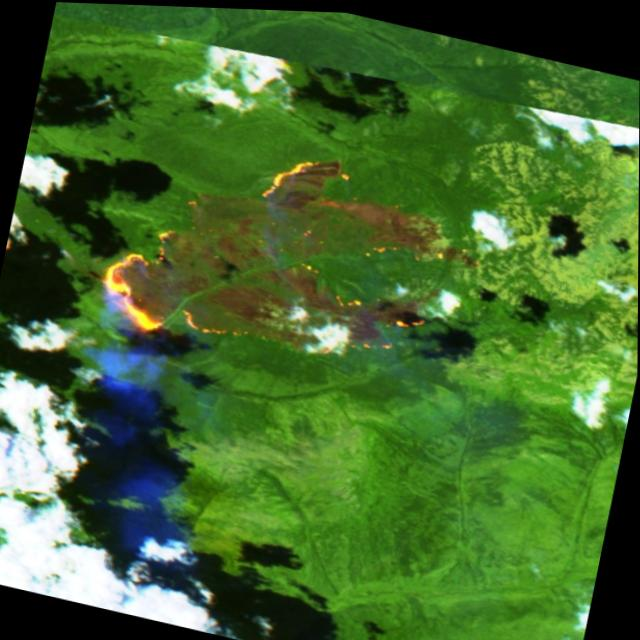fire: (87, 107, 479, 405)
